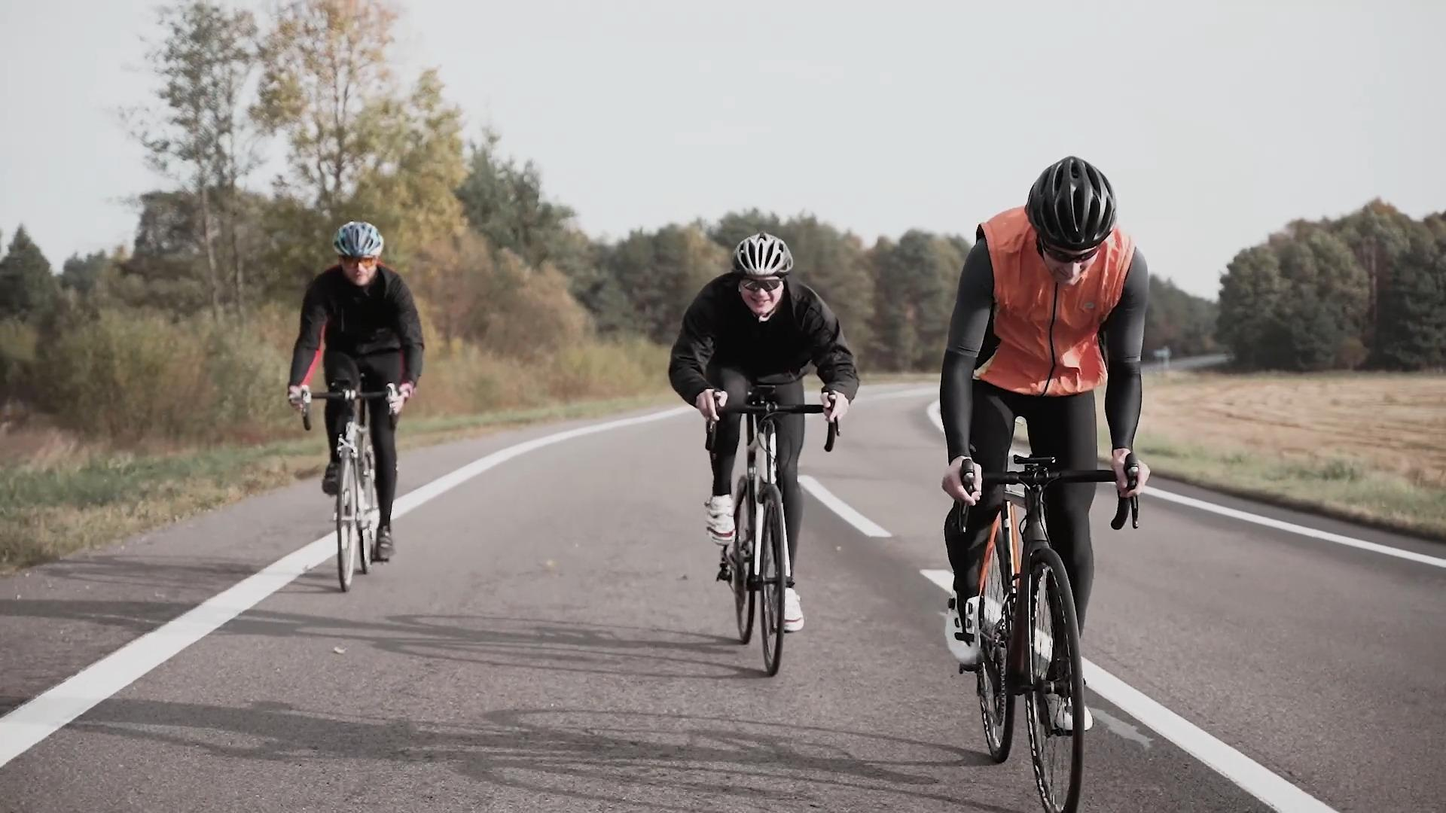bicyclist: (938, 154, 1150, 813), (669, 232, 862, 679), (286, 221, 426, 595)
helmet: (1024, 155, 1116, 287), (730, 232, 795, 320), (331, 220, 385, 287)
